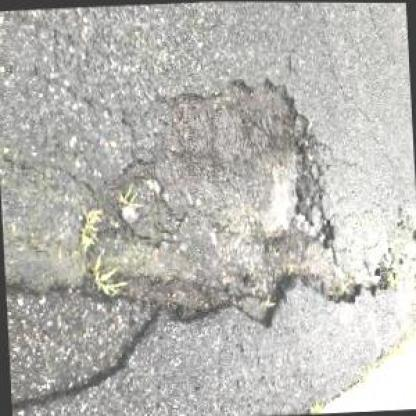pothole: (71, 66, 392, 342)
